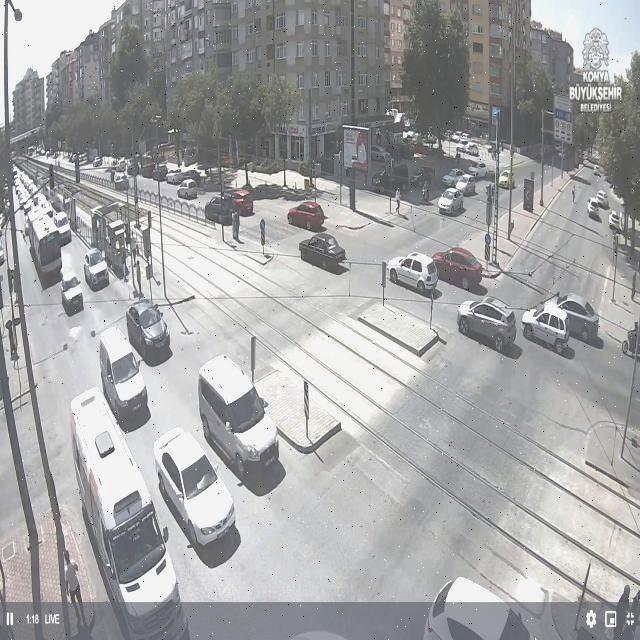Car: (154, 428, 234, 546), (419, 577, 553, 639), (524, 292, 598, 347), (457, 299, 519, 350), (126, 300, 170, 358), (386, 251, 439, 294), (432, 248, 483, 290), (299, 232, 347, 272), (370, 166, 412, 195), (83, 246, 110, 290), (288, 201, 328, 230), (205, 195, 240, 224), (60, 275, 84, 315), (437, 187, 465, 215), (244, 182, 284, 200), (200, 173, 237, 192), (228, 188, 254, 215), (56, 210, 74, 246), (622, 324, 640, 358), (453, 174, 478, 196), (170, 169, 202, 186), (441, 168, 467, 186), (177, 179, 198, 199), (206, 166, 230, 183), (498, 169, 516, 188), (466, 162, 487, 178), (151, 164, 169, 180), (140, 162, 158, 178), (608, 210, 622, 230), (192, 163, 212, 177), (113, 172, 128, 190), (587, 197, 601, 216), (595, 190, 609, 207), (486, 141, 502, 154), (402, 131, 418, 143), (423, 134, 438, 146), (126, 163, 139, 175), (117, 159, 129, 172), (594, 165, 604, 176), (92, 156, 102, 167), (69, 153, 79, 163)
Truck: (67, 387, 179, 640), (32, 218, 59, 282)
Van: (201, 354, 279, 474), (98, 330, 148, 424)
